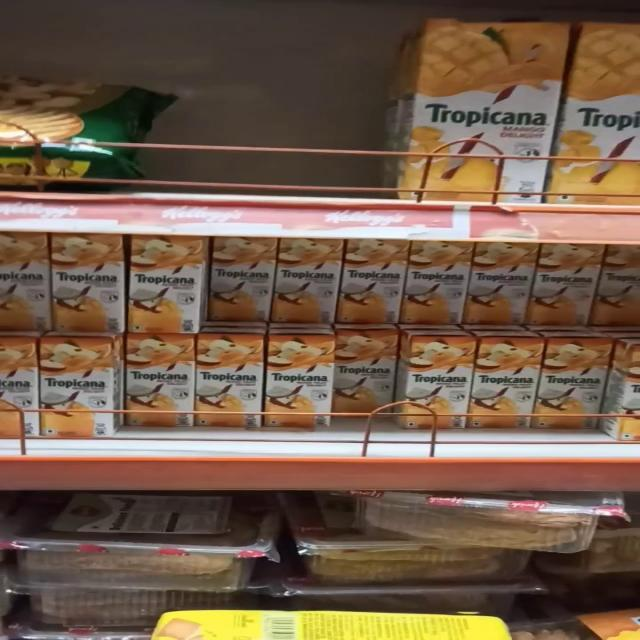Tropicana: (382, 6, 562, 216), (44, 233, 130, 335), (123, 239, 205, 339), (35, 342, 121, 437), (398, 331, 469, 432), (263, 341, 338, 433), (120, 341, 198, 428), (331, 327, 398, 428), (272, 240, 347, 323), (531, 244, 601, 332), (196, 340, 262, 433), (476, 331, 537, 429), (210, 236, 272, 327), (345, 243, 409, 330), (408, 243, 469, 325), (546, 338, 604, 424), (471, 248, 528, 325)
